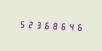eight: (49, 19, 56, 31)
five: (17, 18, 24, 29)
four: (65, 20, 72, 32)
six: (41, 19, 48, 30), (57, 20, 64, 31), (73, 21, 80, 32)
three: (33, 19, 40, 30)
two: (25, 18, 32, 30)
